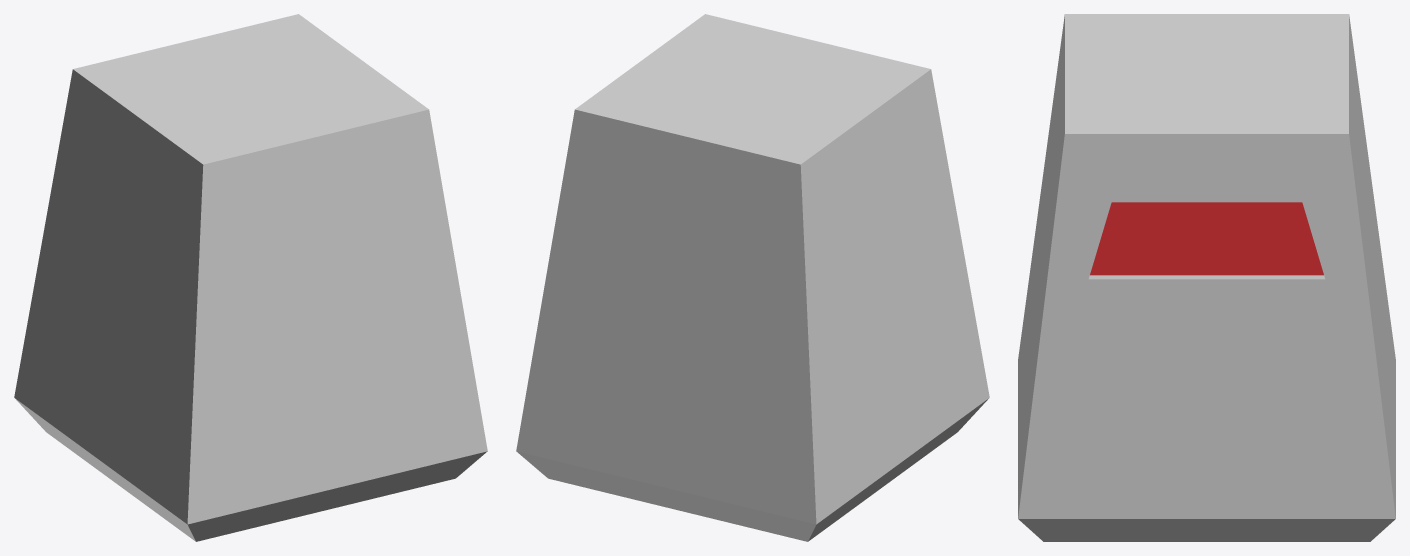
File: PlayerHead.glb
The picture shows the model from 3 angles, left to right: view 1: azimuth 30°, elevation 25°; view 2: azimuth 150°, elevation 25°; view 3: azimuth 270°, elevation 25°; orthographic projection. The views are drawn at different scales.
Parts seen in each view (by area): view 1: Plane; view 2: Plane; view 3: Plane.
Boxes of the visible parts, x1,y1,x2,y2 form: Plane: (14,14,487,541); Plane: (516,14,989,541); Plane: (1018,14,1395,541).
Size of the model in its own units: 2.31 by 2.69 by 2.31.
